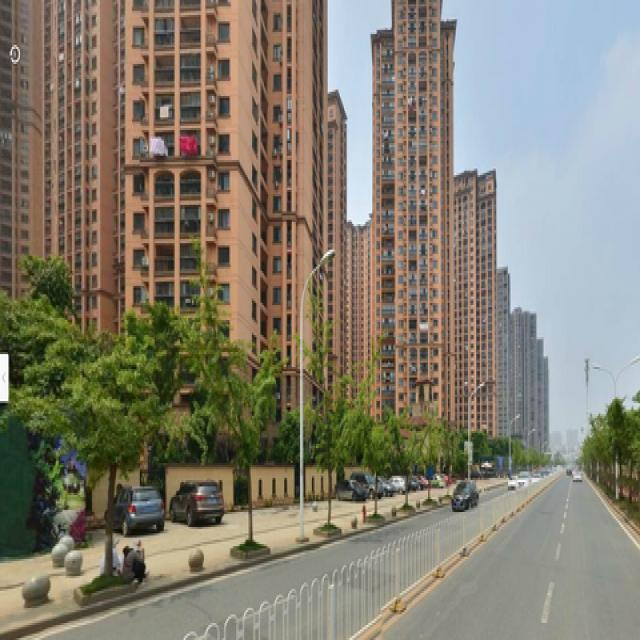gink: (196, 282, 268, 538), (309, 320, 356, 525)
